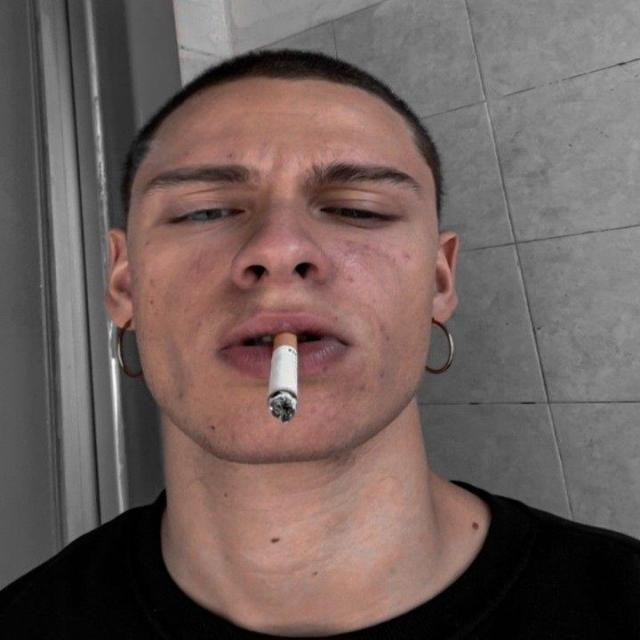cigarette: (254, 318, 332, 444)
